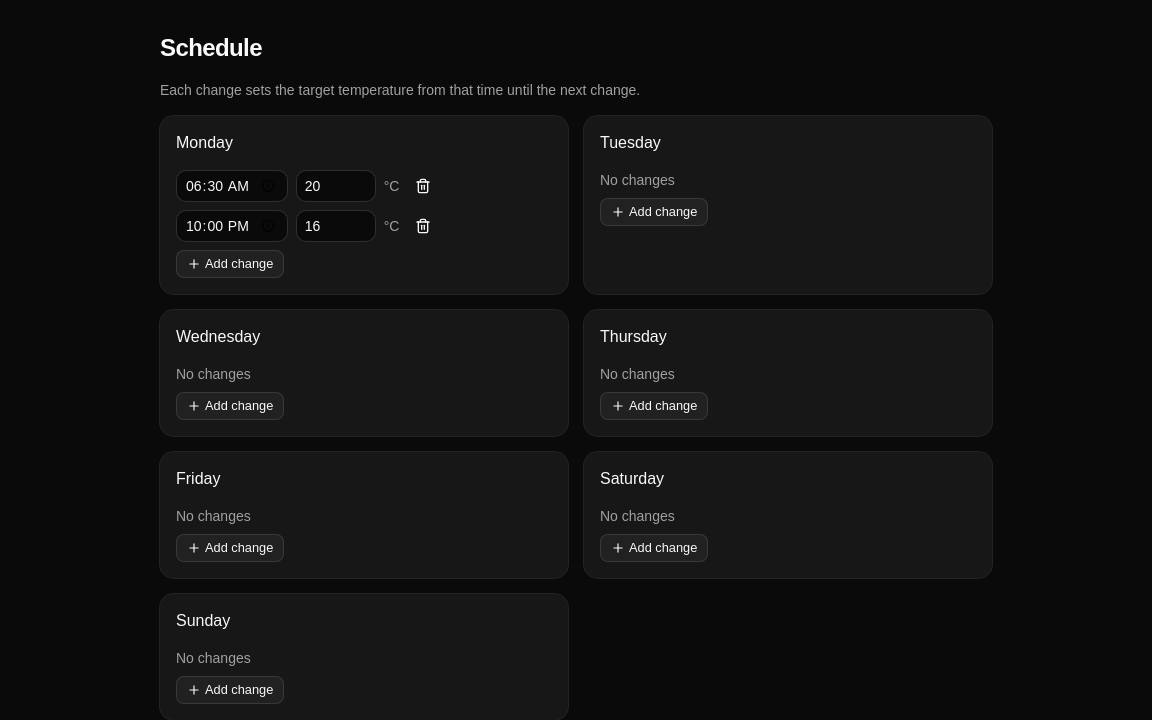
Test case: ScheduleEditor › saves edits sorted, via PUT
The width and height of the screenshot is (1152, 720).
Expected: the time field named "Monday change 1 time" is shown, [176,170,288,202]
Click the button with aria-label "Add change on Tuesday". click: click(654, 212)
box: [600,198,708,226]
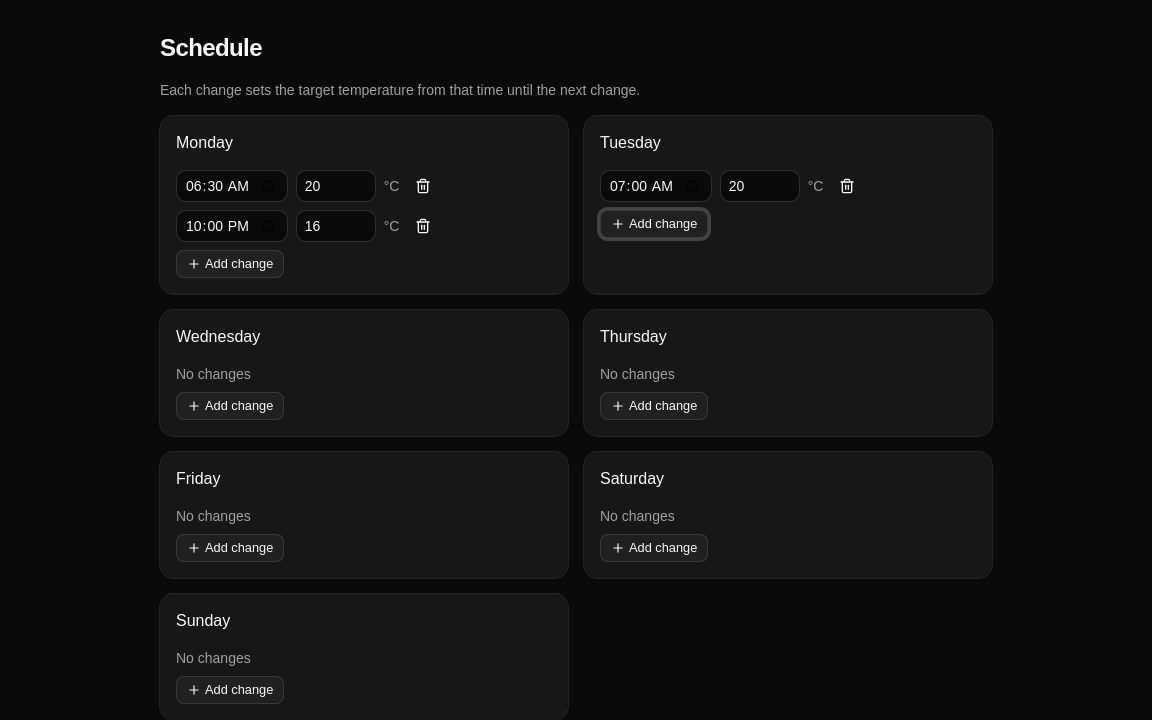
Replace the text in the time field named "Tuesday change 1 time" with "05:00". click: (656, 186)
box: [600,170,712,202]
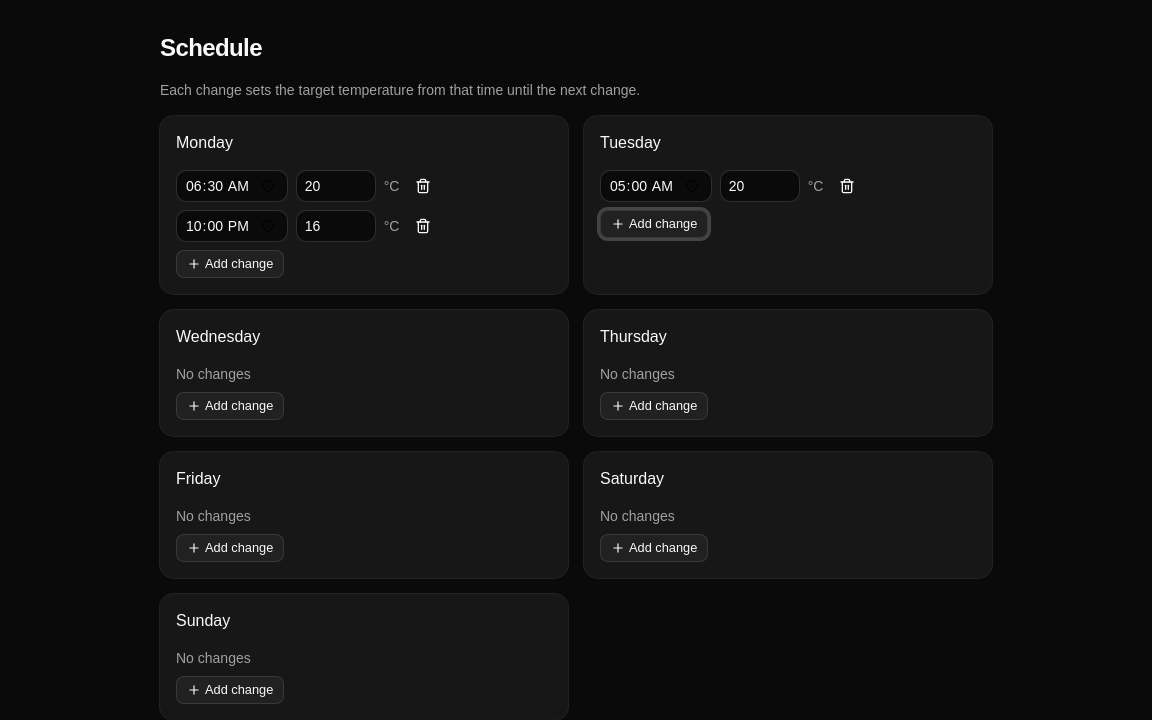
Replace the text in the number field named "Monday change 1 temperature" with "21.5". click: (336, 186)
box: [296,170,376,202]
(page scrolled)
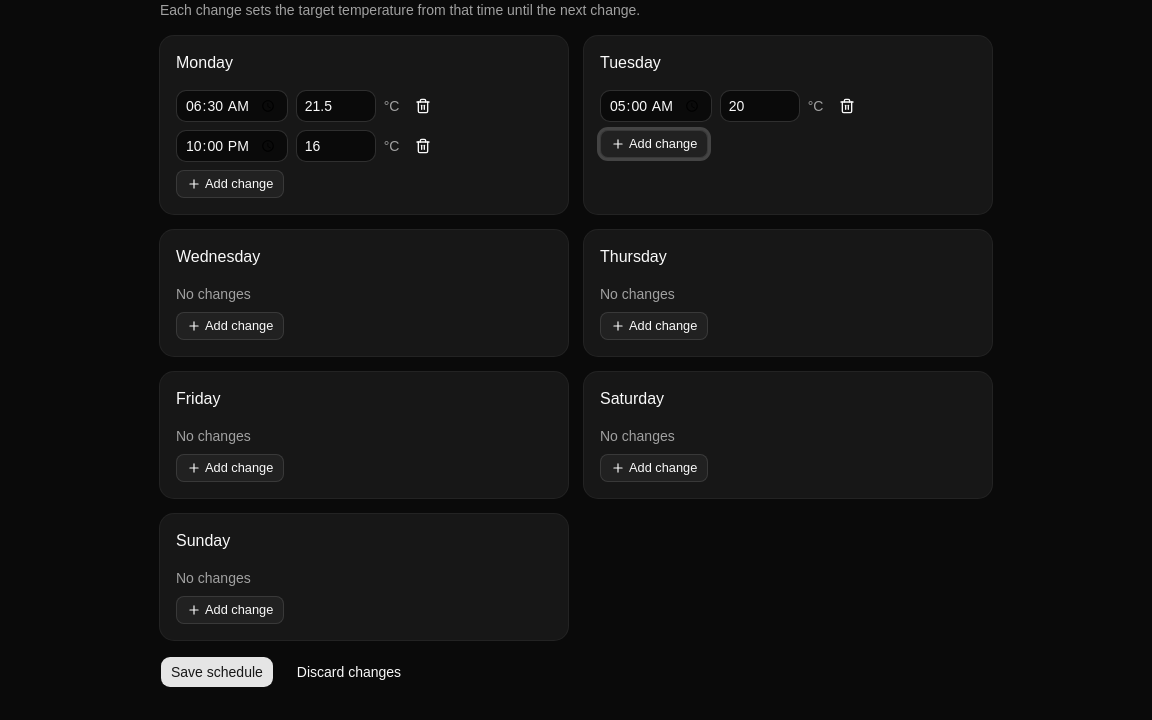
Result: the button "Save schedule" is enabled
Click the button "Save schedule". click: click(217, 672)
box: [160,656,274,688]
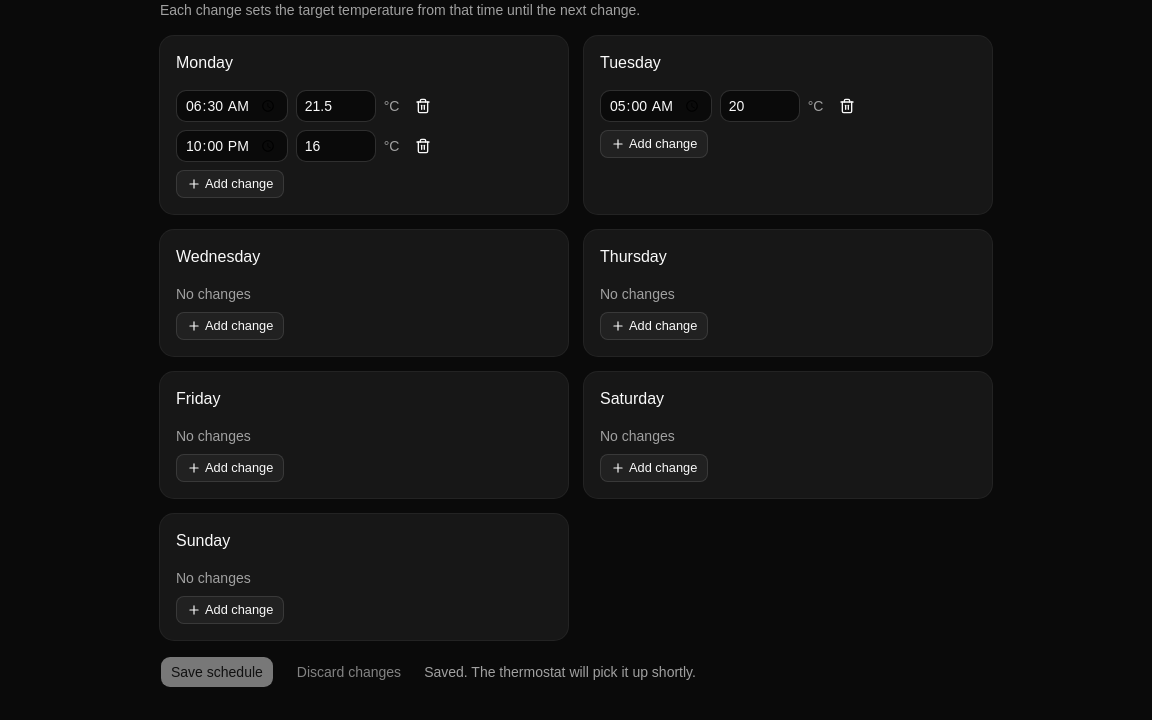
Result: the message shows "Saved" at [424,664,696,680]
Result: the button "Save schedule" is disabled at [160,656,274,688]
